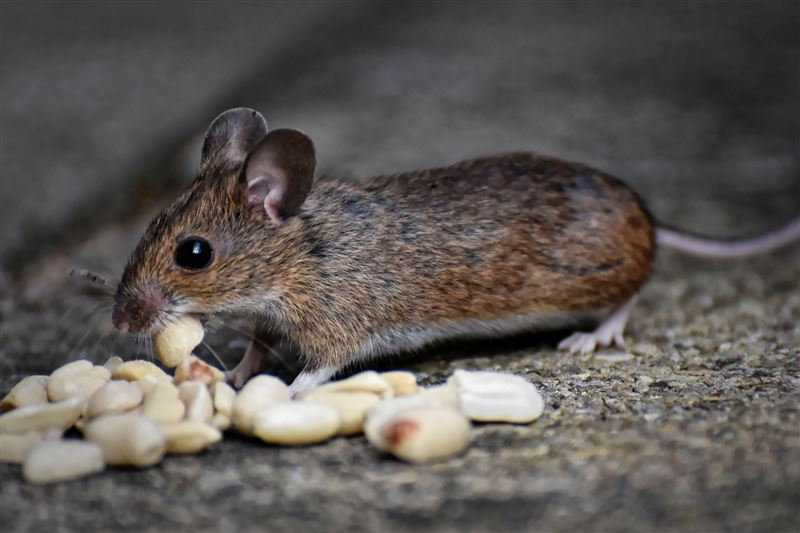mouse: (90, 81, 664, 371)
